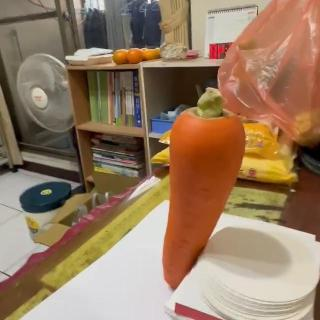carrot: (155, 88, 245, 290)
